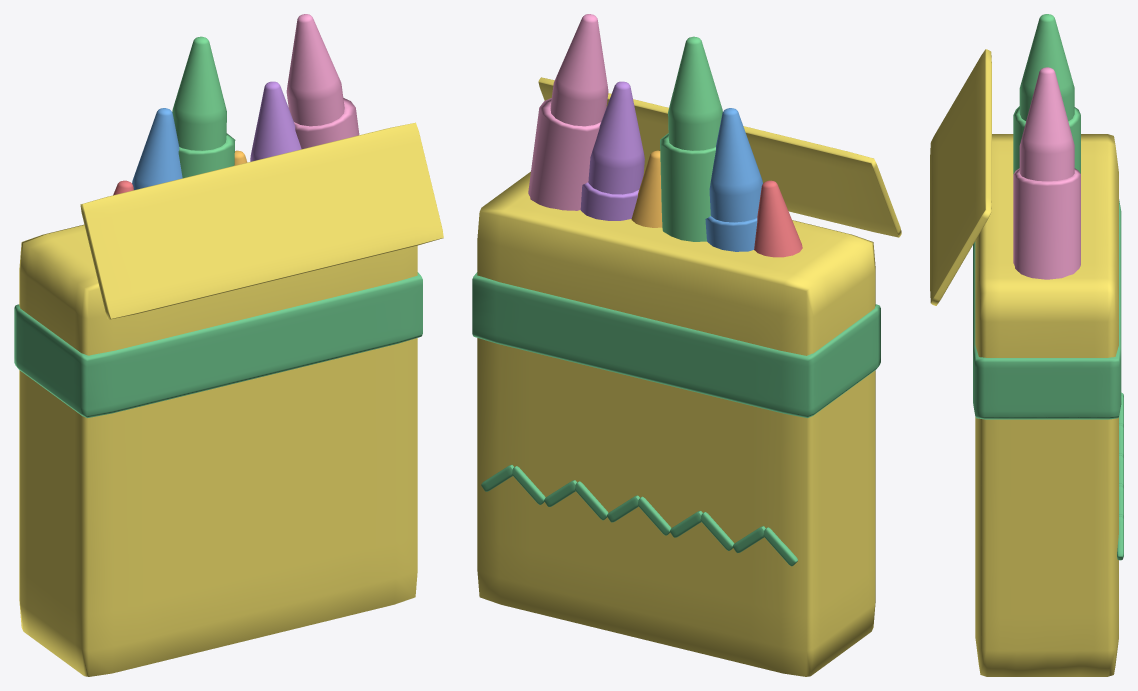
File: TraceRaceCrayonBox.glb
3 views of the same model, side by side, from view 1: azimuth 30°, elevation 25°; view 2: azimuth 150°, elevation 25°; view 3: azimuth 270°, elevation 25° (orthographic).
Visible parts, largest first — view 1: Box, Band, CrayonF, CrayonC, CrayonB, CrayonE; view 2: Box, Band, CrayonF, CrayonC, CrayonE, CrayonB, Chevrons, CrayonA, CrayonD; view 3: Box, CrayonF, Band, CrayonC, Chevrons.
Part boxes in pixels (x1,y1,x2,y2): Box: [19, 122, 443, 676]; Band: [14, 272, 422, 417]; CrayonF: [286, 14, 359, 148]; CrayonC: [172, 36, 235, 178]; CrayonB: [132, 108, 182, 189]; CrayonE: [250, 81, 301, 161]; Box: [477, 77, 901, 676]; Band: [472, 272, 880, 418]; CrayonF: [528, 14, 608, 210]; CrayonC: [660, 36, 722, 241]; CrayonE: [580, 81, 644, 220]; CrayonB: [705, 108, 762, 251]; Chevrons: [481, 465, 797, 566]; CrayonA: [754, 180, 802, 257]; CrayonD: [631, 150, 662, 227]; Box: [930, 49, 1118, 676]; CrayonF: [1013, 67, 1080, 279]; Band: [973, 199, 1121, 419]; CrayonC: [1013, 14, 1080, 173]; Chevrons: [1117, 392, 1123, 560].
Bounding box in the file's own units: 16.2 × 26.59 × 8.09.
